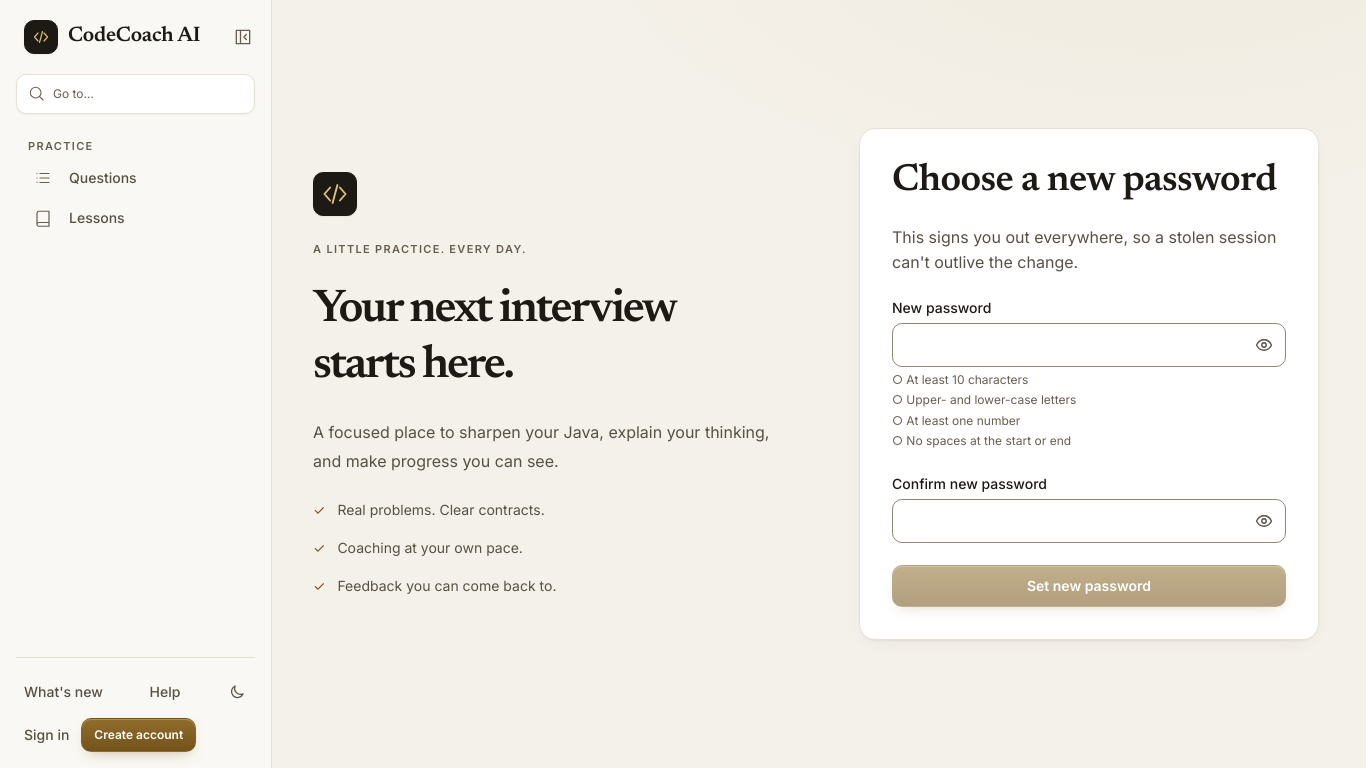
Test: Password reset › won't submit until the two passwords match
In the password field labelled "New password": (1089, 344) 892,322 -> 1286,366, type "BatteryStaple99"
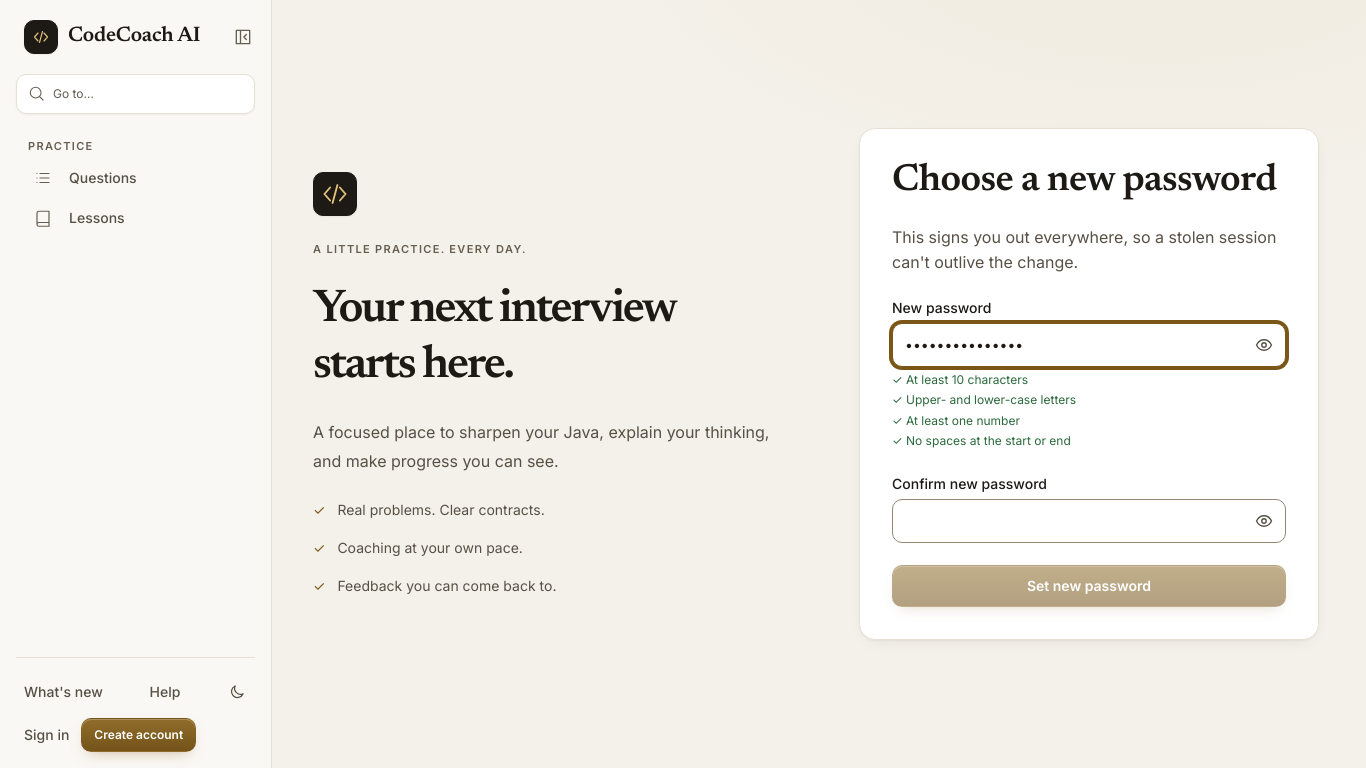
In the password field labelled "Confirm new password": (1089, 521) 892,499 -> 1286,543, type "BatteryStaple98"
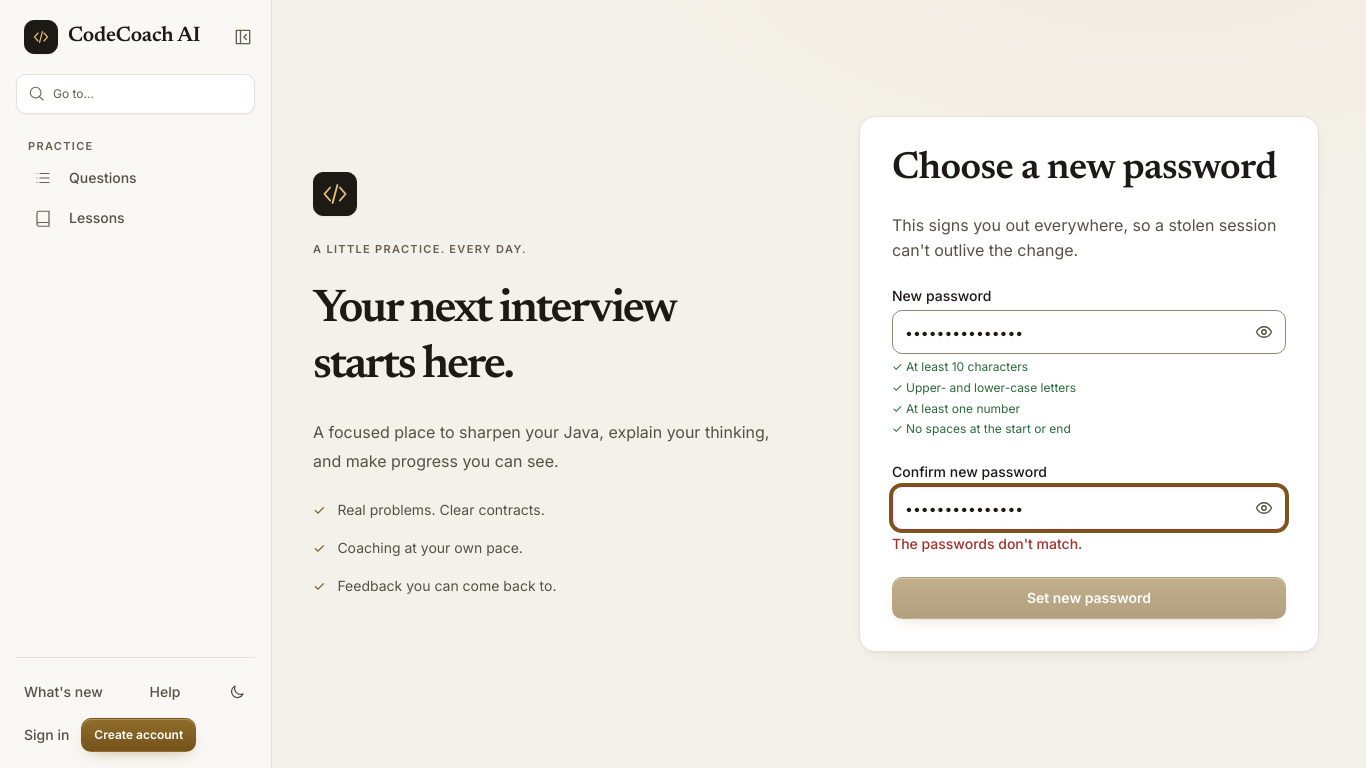
Expected: the button "Set new password" is disabled, 892,577 -> 1286,619
Result: the text "The passwords don't match." is shown at 892,535 -> 1082,552
